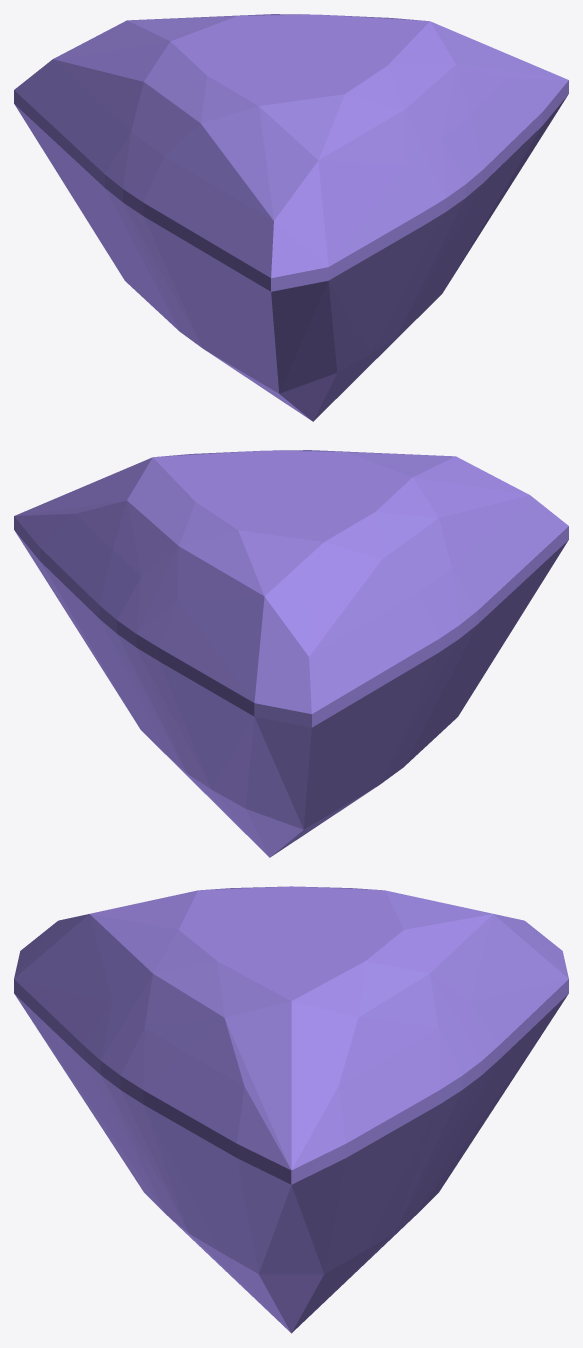
The model's file is jewelry.glb.
3 renders of one model, top to bottom at view 1: azimuth 30°, elevation 25°; view 2: azimuth 150°, elevation 25°; view 3: azimuth 270°, elevation 25°, orthographic. The views are drawn at different scales.
Visible parts, largest first — view 1: Gemstone Tanzanite; view 2: Gemstone Tanzanite; view 3: Gemstone Tanzanite.
Boxes of the visible parts, x1,y1,x2,y2 form: Gemstone Tanzanite: (14, 14, 568, 421); Gemstone Tanzanite: (14, 450, 568, 857); Gemstone Tanzanite: (14, 886, 568, 1333).
Size of the model in its own units: 1.66 by 1.32 by 1.7.
